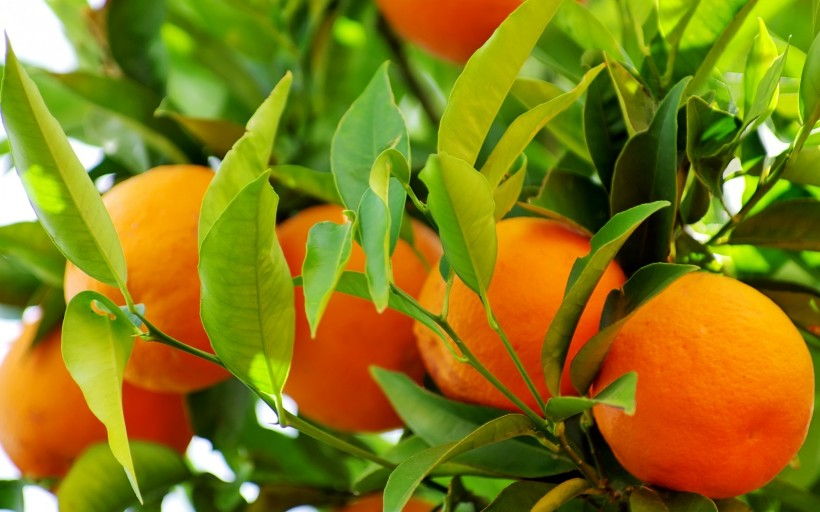orange: (589, 269, 813, 498), (61, 165, 272, 395), (247, 200, 451, 431), (416, 213, 626, 413), (1, 308, 195, 499), (372, 1, 536, 64)
